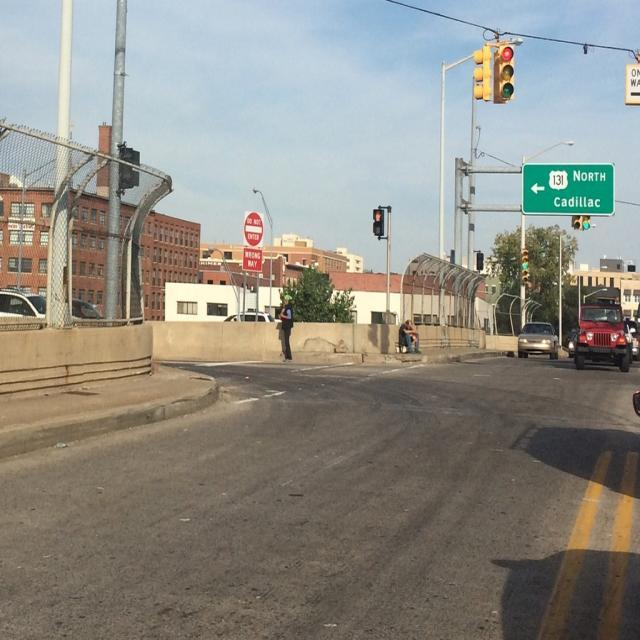traffic light: (496, 43, 515, 103), (372, 207, 386, 239)
